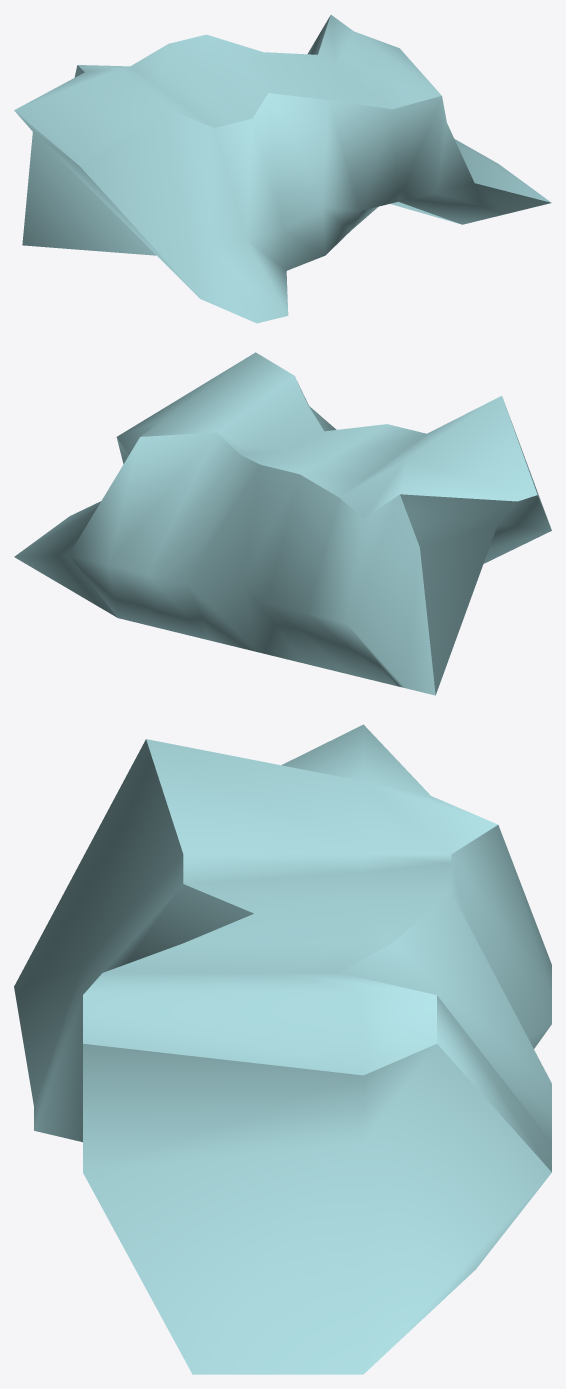
The model's file is Ice_02.fbx.
3 views of the same model, one above another, from view 1: azimuth 30°, elevation 25°; view 2: azimuth 150°, elevation 25°; view 3: azimuth 270°, elevation 25° (orthographic). The views are drawn at different scales.
Parts seen in each view (by area): view 1: Ice_03; view 2: Ice_03; view 3: Ice_03.
Part boxes in pixels (box(x1,y1,x2,y2)): Ice_03: box(14, 15, 551, 323); Ice_03: box(14, 352, 551, 695); Ice_03: box(14, 724, 551, 1374).
Size of the model in its own units: 1460 by 585 by 881.
